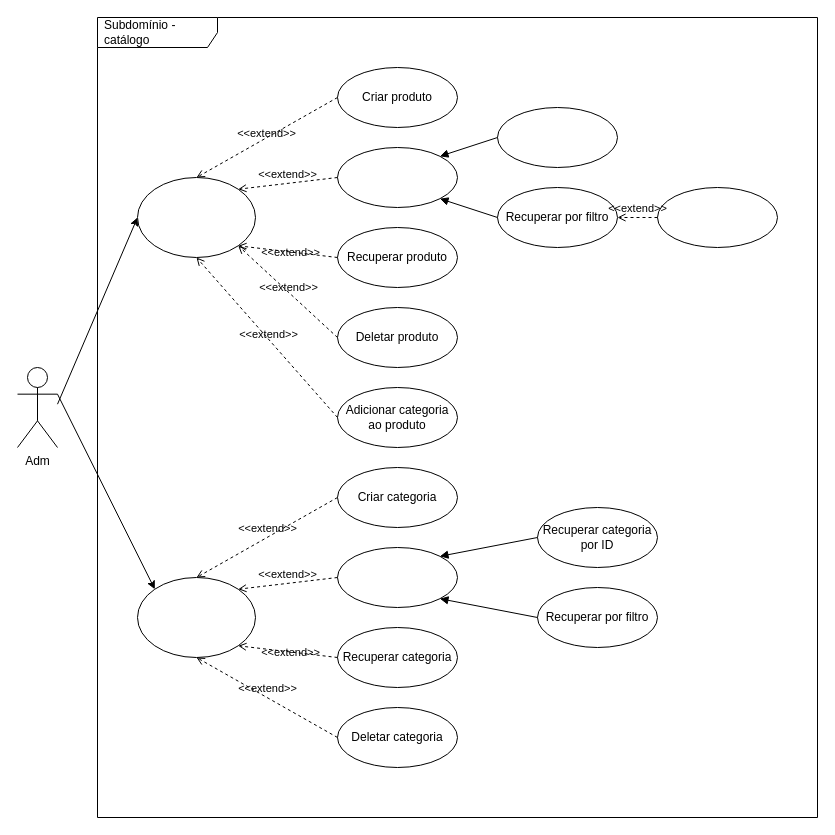
This 835x835 diagram has some shape labels left out. Here are the shapes that lost their labels. From the top down, the centre of each, then its label:
point 557,137: Recuperar produto por ID
point 397,177: Atualizar produto
point 196,217: Gerenciar produto
point 717,217: Recuperar por categoria
point 397,577: Atualizar categoria
point 196,617: Gerenciar categoria
